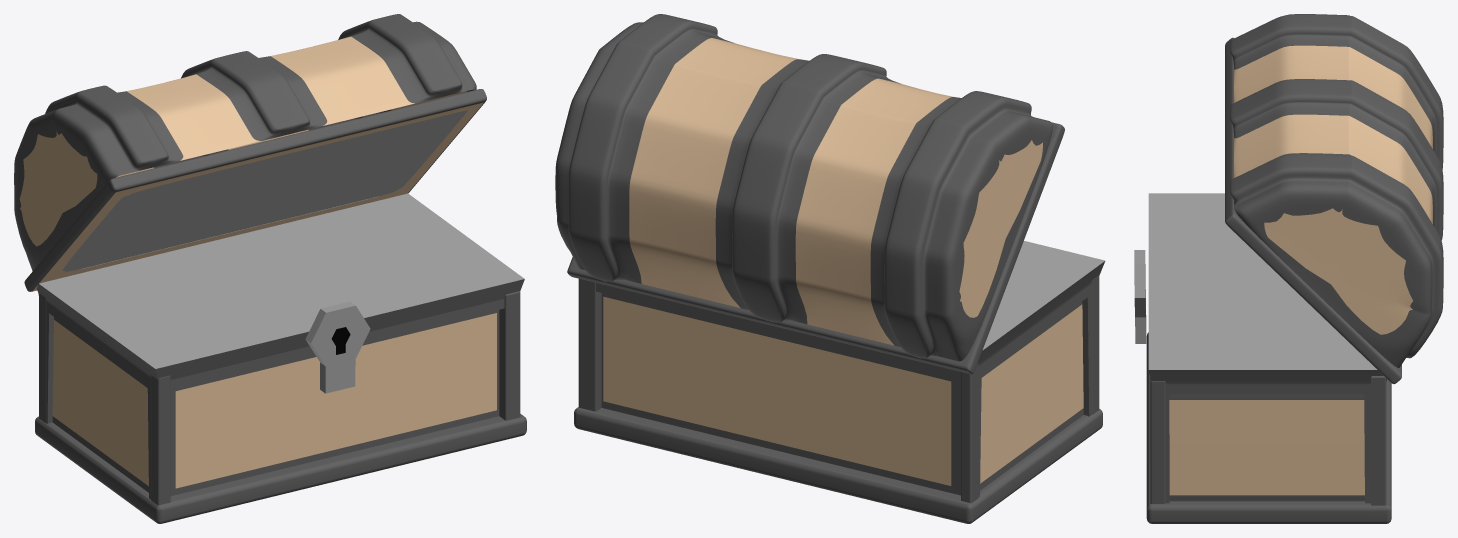
File: Chest_Opened.fbx
3 renders of one model, left to right at view 1: azimuth 30°, elevation 25°; view 2: azimuth 150°, elevation 25°; view 3: azimuth 270°, elevation 25°, orthographic. The views are drawn at different scales.
Visible parts, largest first — view 1: Chest_Open; view 2: Chest_Open; view 3: Chest_Open.
Part boxes in pixels (bbox=[...]): Chest_Open: bbox=[14, 14, 526, 523]; Chest_Open: bbox=[555, 14, 1105, 523]; Chest_Open: bbox=[1134, 14, 1443, 523].
Bounding box in the file's own units: 7.27 × 6.55 × 5.3.
